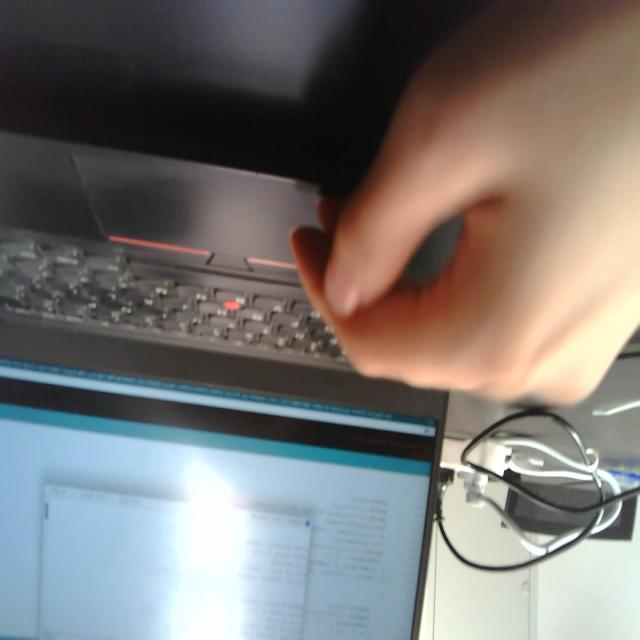keyboard-with-hands: (0, 129, 464, 412)
